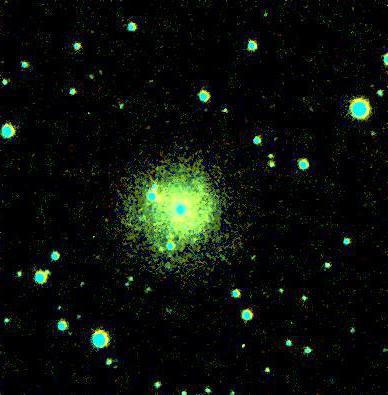star: (181, 219, 211, 249)
